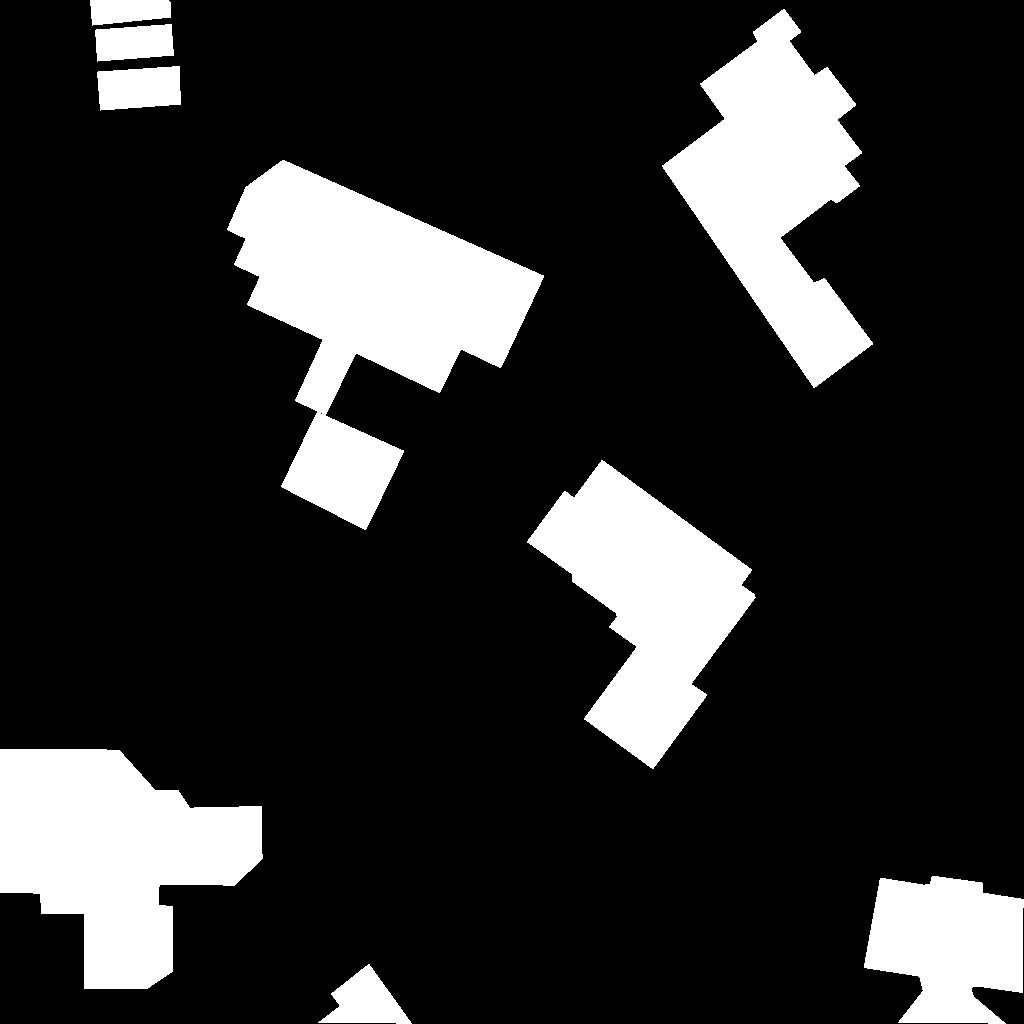building: (227, 160, 545, 416), (662, 9, 874, 389), (527, 460, 757, 770), (0, 749, 263, 989), (864, 876, 1024, 1024), (281, 412, 405, 531), (318, 964, 413, 1024), (97, 66, 182, 111), (95, 24, 175, 62), (90, 0, 172, 26)
